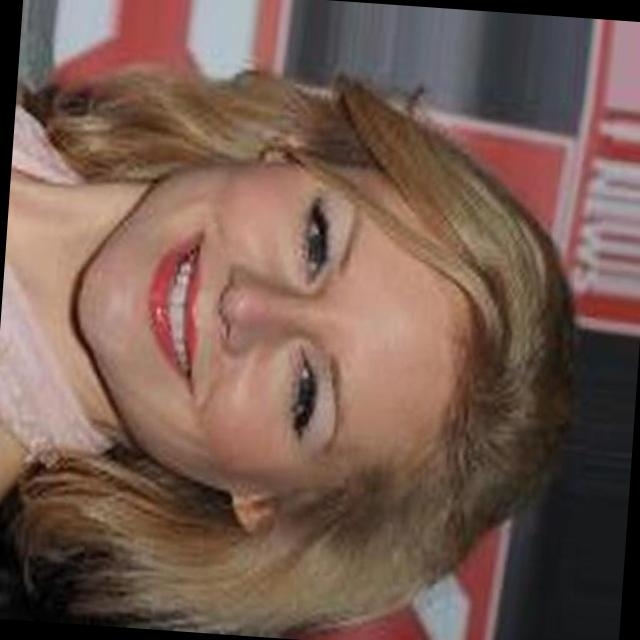bareface: (67, 89, 570, 569)
